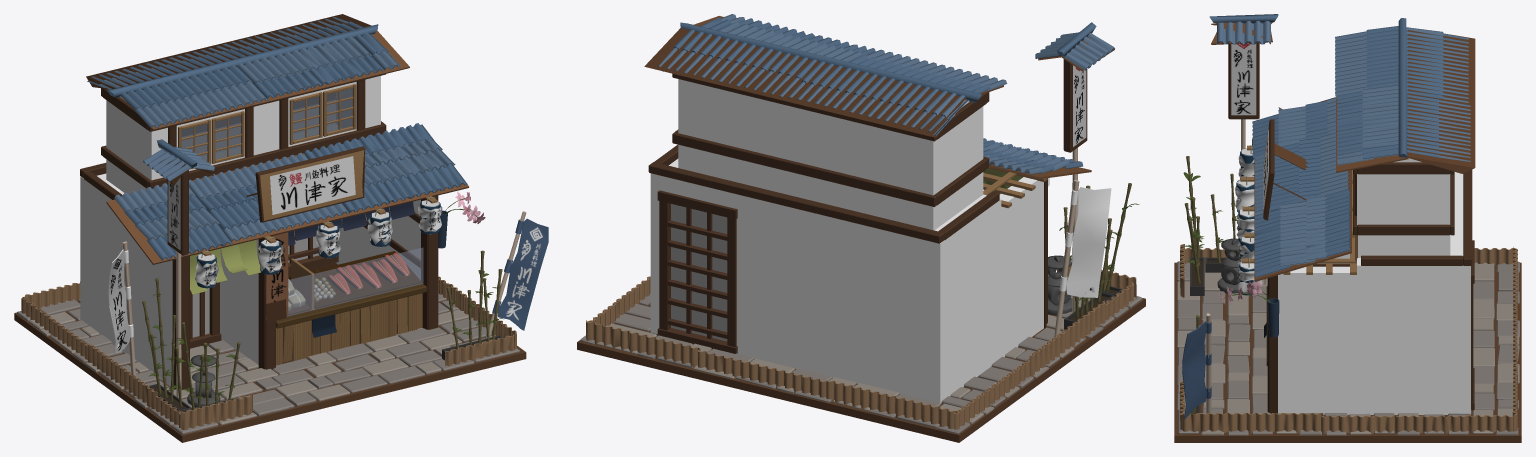
File: japan.glb
3 views of the same model, side by side, from view 1: azimuth 30°, elevation 25°; view 2: azimuth 150°, elevation 25°; view 3: azimuth 270°, elevation 25° (orthographic). The views are drawn at different scales.
Parts seen in each view (by area): view 1: pCube4_lambert31_0, pCylinder1_phong6_0, polySurface65_lambert4_0, pCube44_lambert32_0, polySurface539_lambert41_0, pCube19_lambert33_0, pCube3_lambert12_0, polySurface240_phong4_0, polySurface542_lambert42_0, pCube1_lambert35_0, pCube48_lambert3_0, polySurface440_lambert19_0 (+17 smaller); view 2: pCube4_lambert31_0, pCube44_lambert32_0, polySurface240_phong4_0, pCylinder1_phong6_0, pCube3_lambert12_0, polySurface65_lambert4_0, pCube1_lambert35_0, polySurface539_lambert41_0, polySurface522_lambert40_0, polySurface260_lambert16_0, polySurface542_lambert42_0, polySurface440_lambert19_0 (+4 smaller); view 3: pCube4_lambert31_0, pCylinder1_phong6_0, polySurface65_lambert4_0, polySurface539_lambert41_0, polySurface240_phong4_0, pCube44_lambert32_0, pCube3_lambert12_0, polySurface542_lambert42_0, pCube1_lambert35_0, polySurface498_lambert9_0, pCube155_lambert15_0, polySurface255_lambert5_0 (+9 smaller).
Boxes of the visible parts, bbox=[...] form: pCube4_lambert31_0: bbox=[80, 76, 420, 386]; pCylinder1_phong6_0: bbox=[87, 21, 467, 260]; polySurface65_lambert4_0: bbox=[99, 17, 455, 241]; pCube44_lambert32_0: bbox=[80, 74, 438, 389]; polySurface539_lambert41_0: bbox=[17, 293, 519, 434]; pCube19_lambert33_0: bbox=[178, 84, 437, 365]; pCube3_lambert12_0: bbox=[86, 14, 468, 364]; polySurface240_phong4_0: bbox=[21, 276, 516, 429]; polySurface542_lambert42_0: bbox=[29, 309, 495, 424]; pCube1_lambert35_0: bbox=[14, 300, 526, 442]; pCube48_lambert3_0: bbox=[287, 247, 423, 316]; polySurface440_lambert19_0: bbox=[142, 250, 502, 410]; pCube4_lambert31_0: bbox=[650, 79, 1043, 403]; pCube44_lambert32_0: bbox=[648, 59, 1087, 353]; polySurface240_phong4_0: bbox=[586, 262, 1136, 429]; pCylinder1_phong6_0: bbox=[673, 17, 1096, 173]; pCube3_lambert12_0: bbox=[644, 16, 1114, 179]; polySurface65_lambert4_0: bbox=[658, 14, 1114, 174]; pCube1_lambert35_0: bbox=[577, 298, 1145, 442]; polySurface539_lambert41_0: bbox=[580, 275, 1142, 434]; polySurface522_lambert40_0: bbox=[671, 204, 727, 341]; polySurface260_lambert16_0: bbox=[1059, 187, 1111, 297]; polySurface542_lambert42_0: bbox=[597, 295, 1090, 423]; polySurface440_lambert19_0: bbox=[1063, 183, 1131, 318]; pCube4_lambert31_0: bbox=[1278, 158, 1470, 414]; pCylinder1_phong6_0: bbox=[1209, 14, 1468, 277]; polySurface65_lambert4_0: bbox=[1217, 21, 1470, 266]; polySurface539_lambert41_0: bbox=[1177, 261, 1519, 435]; polySurface240_phong4_0: bbox=[1180, 244, 1517, 433]; pCube44_lambert32_0: bbox=[1228, 43, 1474, 413]; pCube3_lambert12_0: bbox=[1211, 22, 1475, 284]; polySurface542_lambert42_0: bbox=[1177, 262, 1519, 435]; pCube1_lambert35_0: bbox=[1174, 262, 1521, 442]; polySurface498_lambert9_0: bbox=[1182, 321, 1211, 419]; pCube155_lambert15_0: bbox=[1231, 43, 1256, 115]; polySurface255_lambert5_0: bbox=[1234, 155, 1262, 293].
Size of the model in its own units: 19.71 by 12.56 by 14.6.
Materials: 48 (6 with a texture image).
